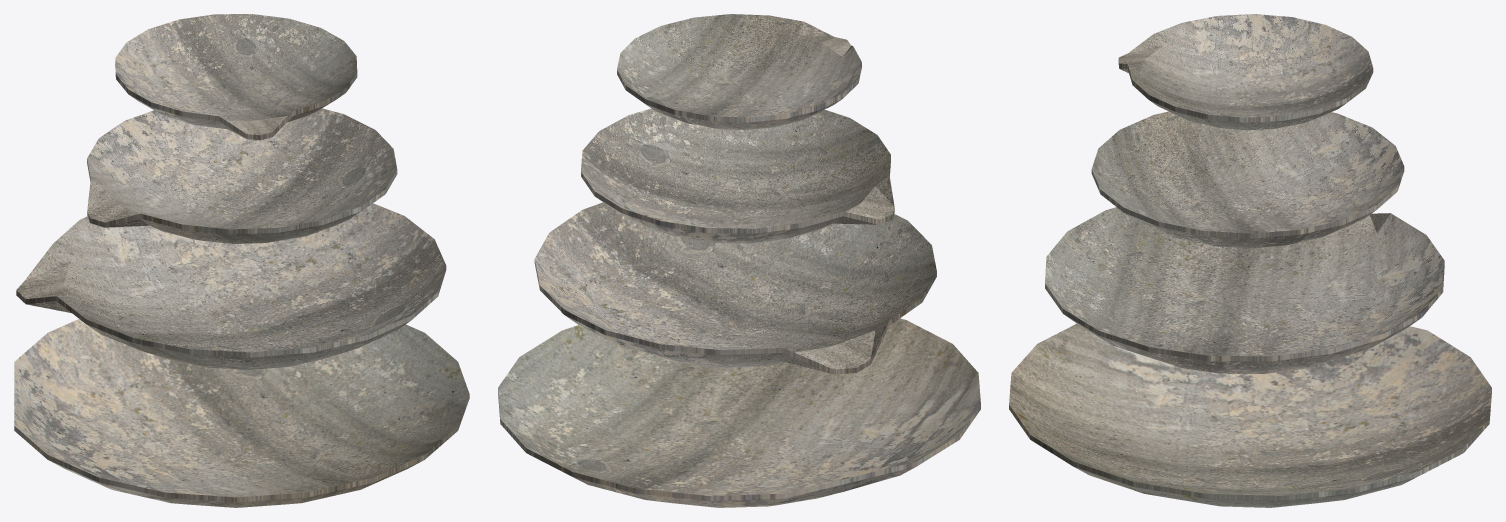
Rendered from Fountain 10_22.fbx.
3 views of the same model, side by side, from view 1: azimuth 30°, elevation 25°; view 2: azimuth 150°, elevation 25°; view 3: azimuth 270°, elevation 25° (orthographic).
Parts seen in each view (by area): view 1: polySurface133, polySurface132, polySurface131, polySurface130; view 2: polySurface133, polySurface132, polySurface131, polySurface130; view 3: polySurface133, polySurface132, polySurface131, polySurface130.
Boxes of the visible parts, x1=… form: polySurface133: x1=14, y1=319, x2=469, y2=507; polySurface132: x1=16, y1=203, x2=446, y2=369; polySurface131: x1=87, y1=108, x2=397, y2=243; polySurface130: x1=115, y1=14, x2=357, y2=140; polySurface133: x1=498, y1=318, x2=980, y2=507; polySurface132: x1=534, y1=202, x2=936, y2=374; polySurface131: x1=581, y1=108, x2=894, y2=243; polySurface130: x1=617, y1=14, x2=861, y2=130; polySurface133: x1=1009, y1=323, x2=1491, y2=507; polySurface132: x1=1045, y1=207, x2=1444, y2=374; polySurface131: x1=1091, y1=111, x2=1404, y2=248; polySurface130: x1=1118, y1=14, x2=1373, y2=130.
Bounding box in the file's own units: 0.0121 × 0.0113 × 0.0124.
